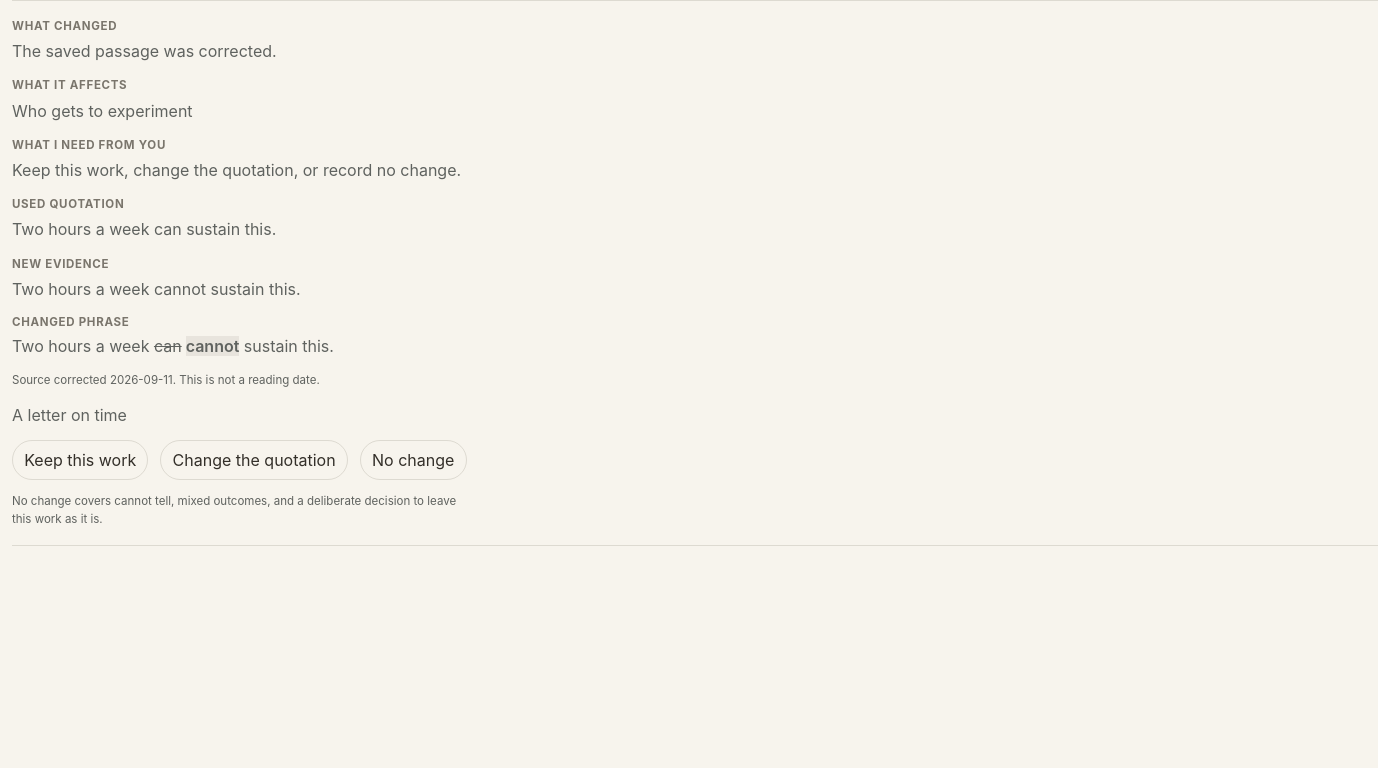
Test case: SourceCorrectionReview › records keep without inventing a rewrite
This screenshot has width=1378, height=768.
Click the button "Keep this work": [80, 460] box [12,440,148,480]
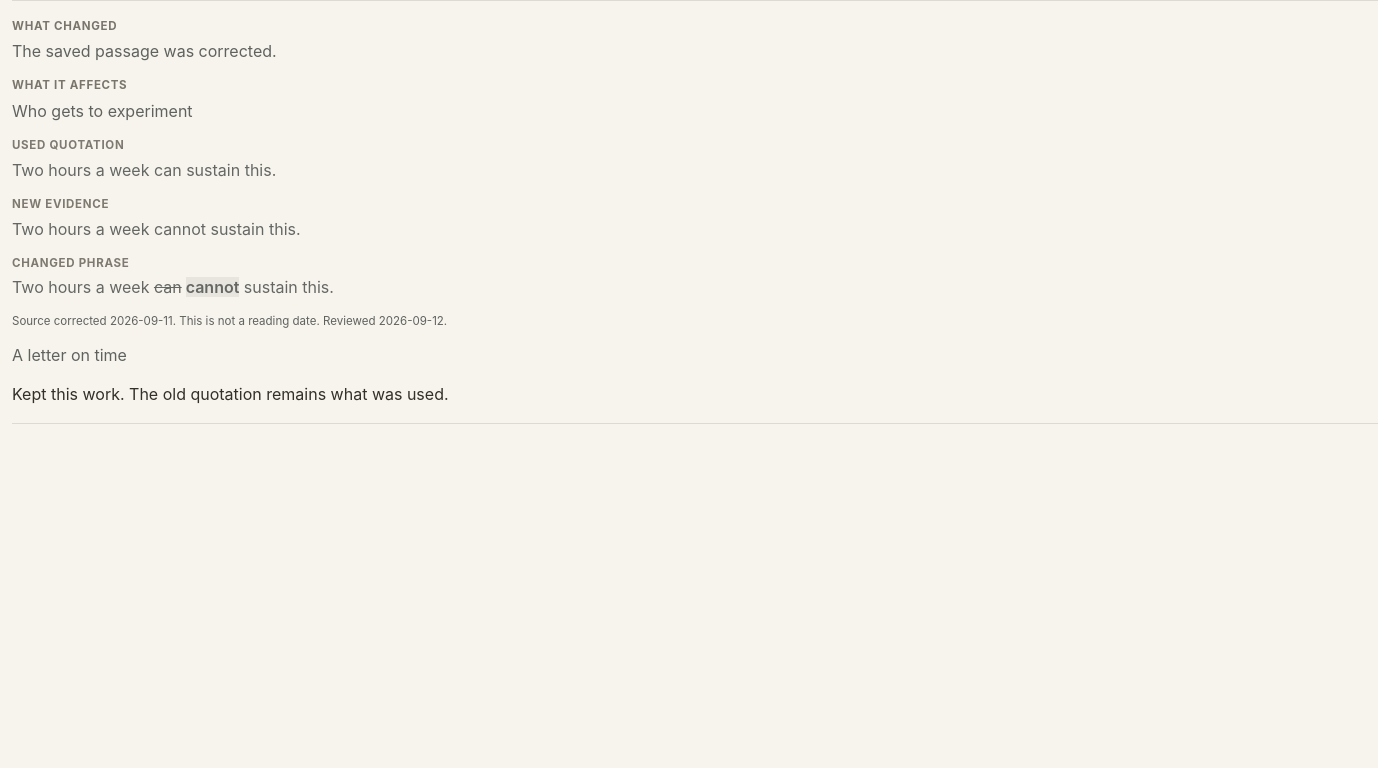
Expected: the text "Two hours a week can sustain this." is shown, [12,160,276,180]
Now the text "Kept this work. The old quotation remains what was used." is shown, box [12,384,448,404]
Now the button "Keep this work" is gone
